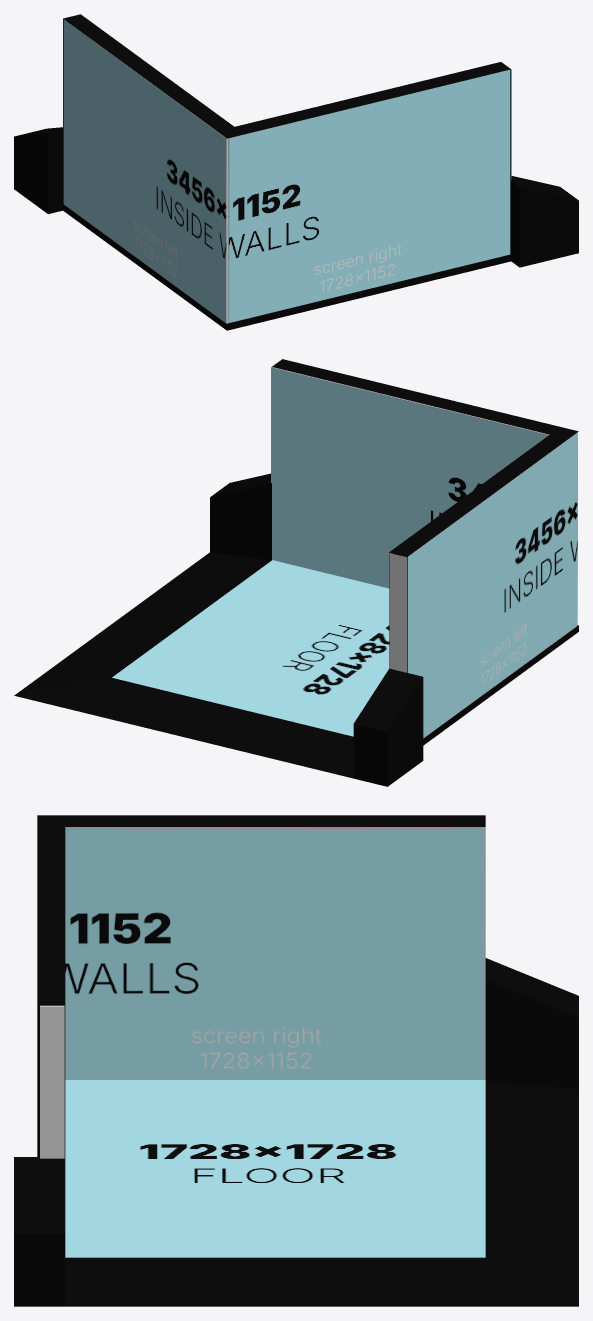
The model's file is fullportal_textured.fbx.
The picture shows the model from 3 angles, top to bottom: view 1: azimuth 30°, elevation 25°; view 2: azimuth 150°, elevation 25°; view 3: azimuth 270°, elevation 25°; orthographic projection. The views are drawn at different scales.
Parts seen in each view (by area): view 1: Cube, Cube.001, PORTAL_STRUCTURE; view 2: PORTAL_STRUCTURE, Cube, Cube.001, Plane; view 3: Cube.001, Plane, PORTAL_STRUCTURE, Cube.
Part boxes in pixels (x1,y1,x2,y2): Cube: (228,62,511,322); Cube.001: (63,19,228,323); PORTAL_STRUCTURE: (14,14,578,330); PORTAL_STRUCTURE: (14,359,578,786); Cube: (271,360,549,588); Cube.001: (389,432,577,738); Plane: (112,560,389,736); Cube.001: (65,827,485,1079); Plane: (65,1080,485,1257); PORTAL_STRUCTURE: (14,815,578,1306); Cube: (40,1005,64,1158).
Size of the model in its own units: 605 by 310 by 605.
Materials: 8 (5 with a texture image).
